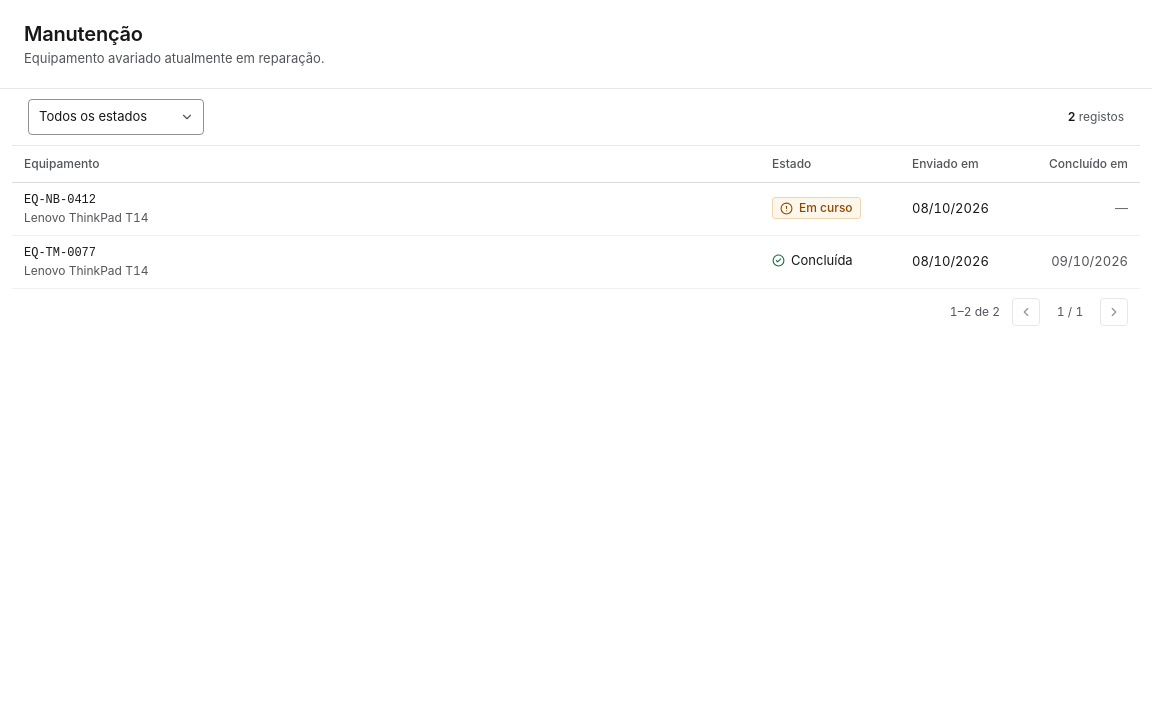
Scenario: MaintenancePage › shows a failed completion inside the drawer
The image size is (1152, 720).
Step 1. Click the button with aria-label "Abrir manutenção de EQ-NB-0412" → (86, 208), box [24, 190, 148, 226]
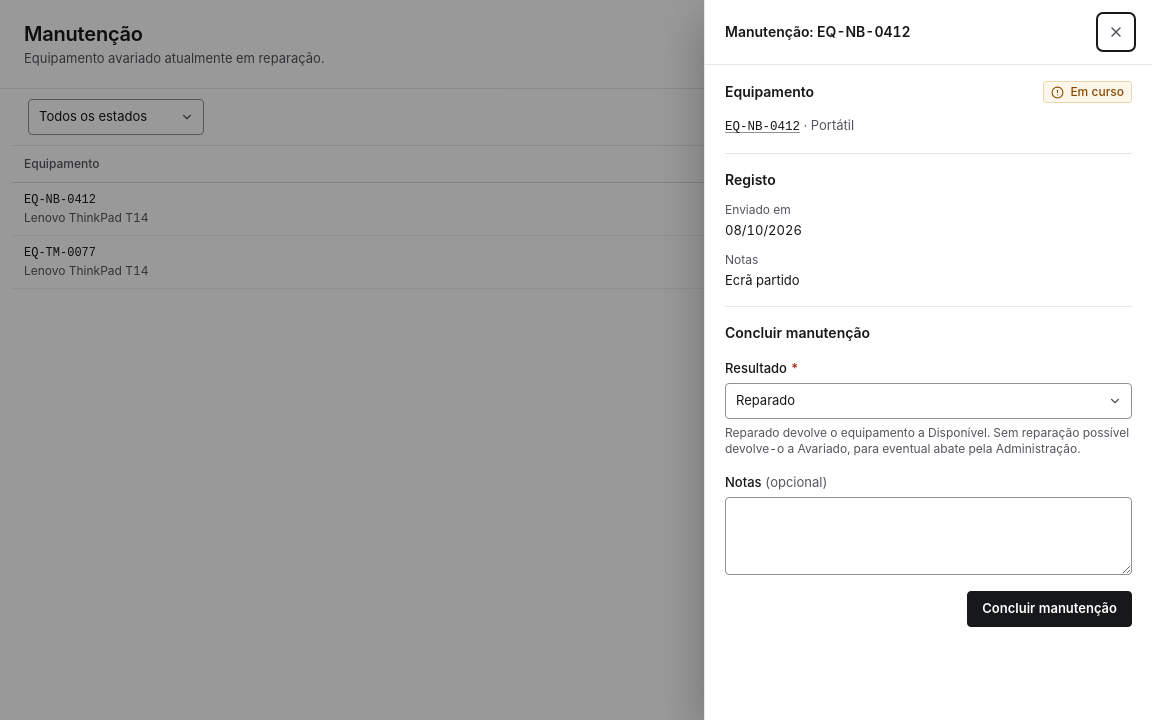
Step 2. Click the button "Concluir manutenção" → (1050, 609), box [967, 591, 1132, 627]
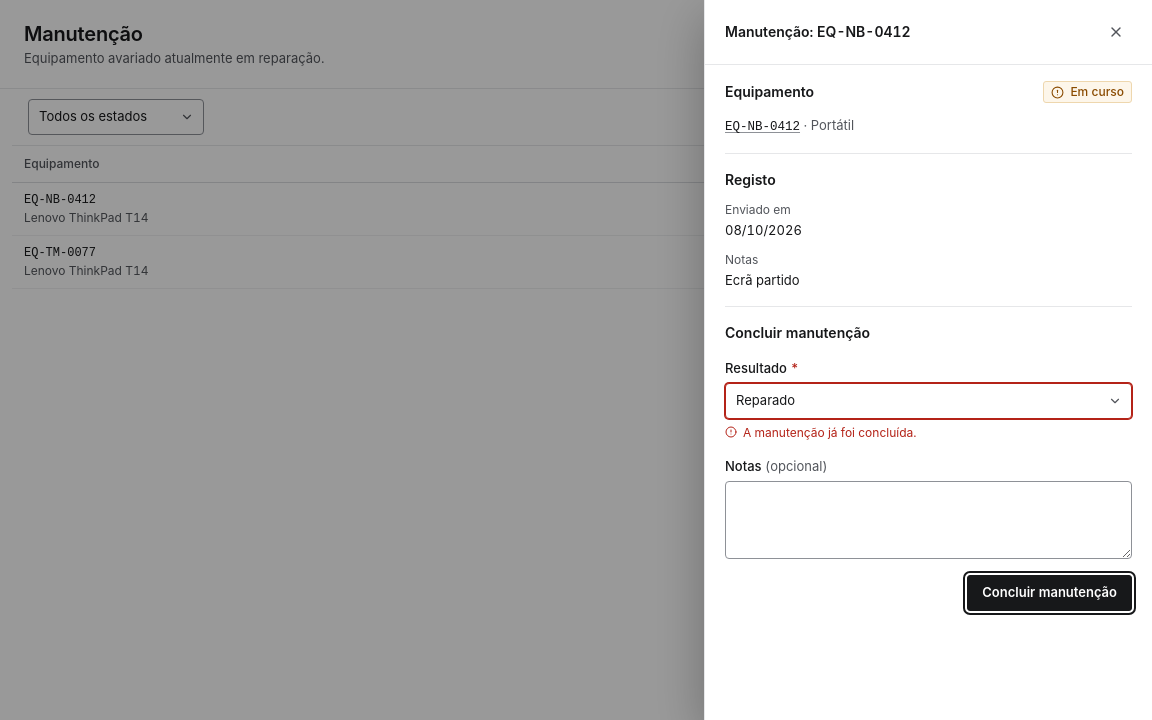
Now the message reads "A manutenção já foi concluída.", box [743, 425, 916, 440]
